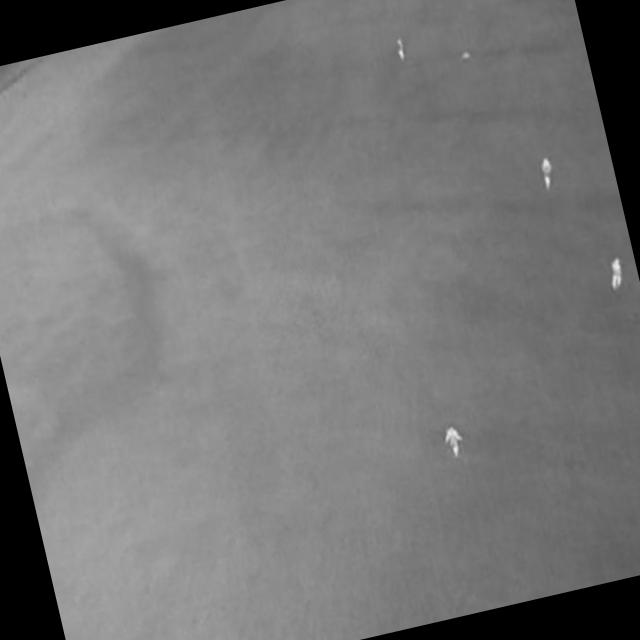person: (439, 418, 467, 460), (605, 253, 628, 292), (538, 155, 558, 192), (394, 37, 408, 63)
